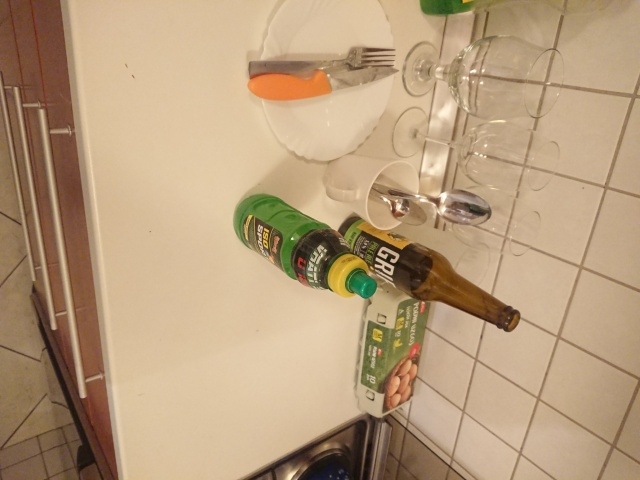Vindi Iso Sport Lemon-Grapefruit 500mL: (231, 191, 380, 301)
